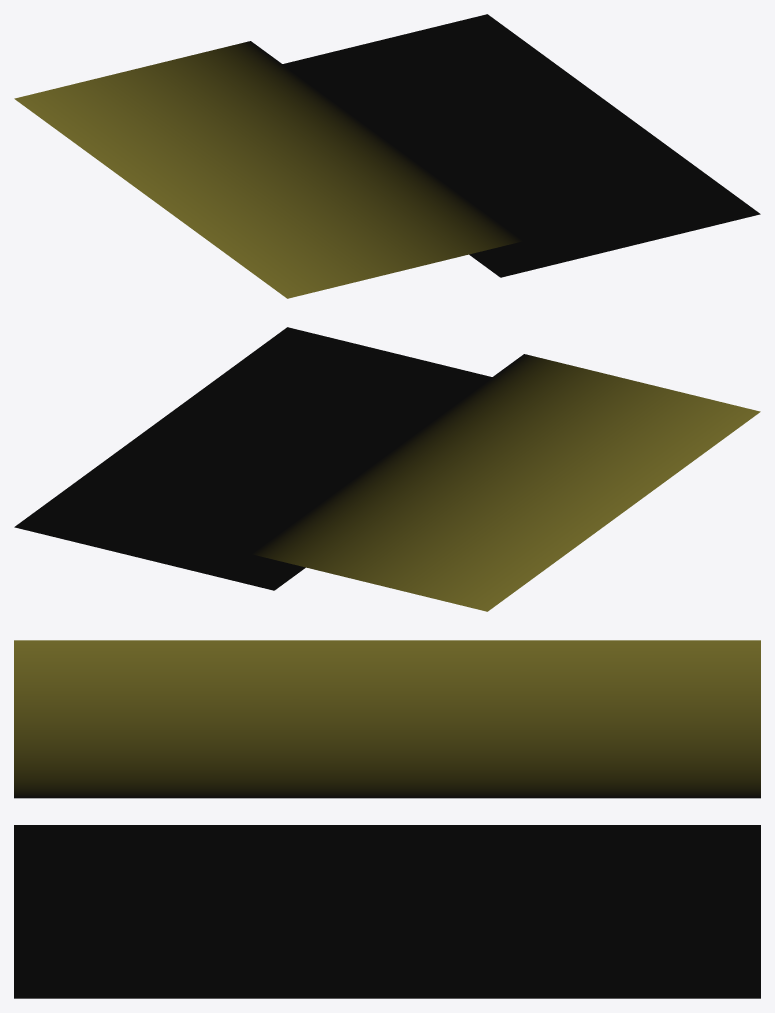
3 renders of one model, top to bottom at view 1: azimuth 30°, elevation 25°; view 2: azimuth 150°, elevation 25°; view 3: azimuth 270°, elevation 25°, orthographic. The views are drawn at different scales.
Bounding box in the file's own units: 1 × 0.0625 × 1.
Materials: 1 (1 with a texture image).
